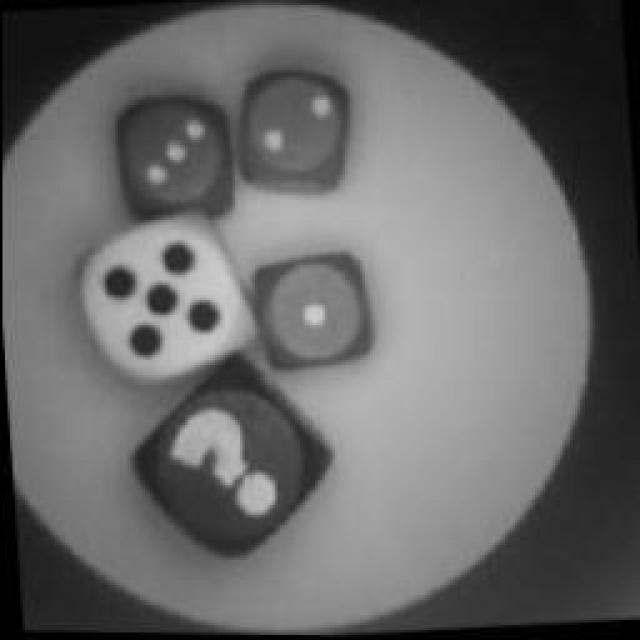dice_1: (245, 248, 380, 384)
dice_2: (225, 61, 360, 204)
dice_3: (97, 90, 245, 232)
dice_5: (78, 206, 250, 392)
